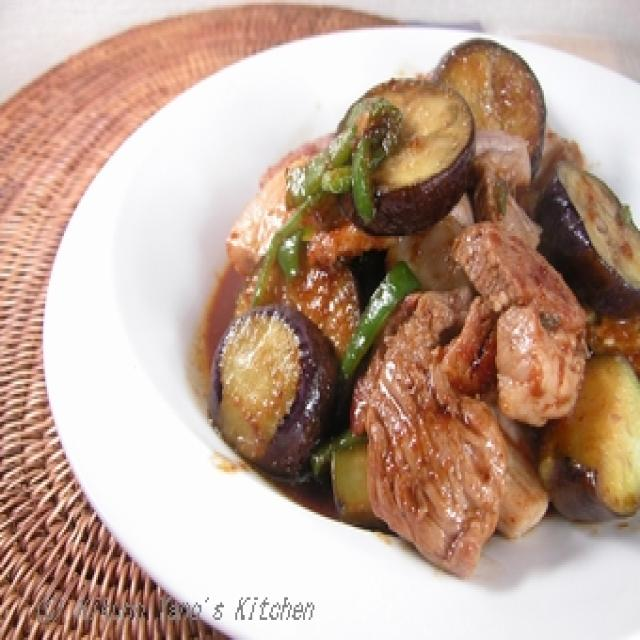鸡蛋料理: (192, 35, 640, 572)
